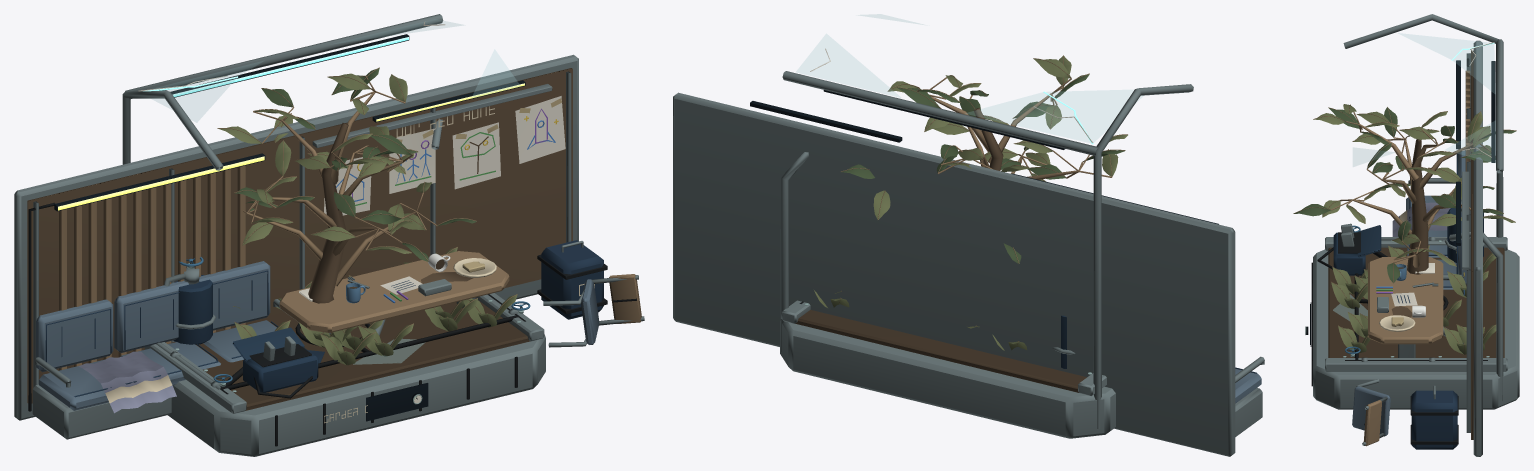
File: habitation.glb
3 renders of one model, left to right at view 1: azimuth 30°, elevation 25°; view 2: azimuth 150°, elevation 25°; view 3: azimuth 270°, elevation 25°, orthographic. The views are drawn at different scales.
Parts seen in each view (by area): view 1: residential-story-wall--p11-tint, residential-common-nook--p11-tint, atrium-conservatory--p11-tint, atrium-conservatory--p11-steel, residential-story-wall--p11-steel, residential-common-nook--p11-steel, atrium-conservatory--e9-glass, atrium-conservatory--p11-rubber, atrium-conservatory--e9-dark, atrium-conservatory--p11-tint-metal, residential-story-wall--e9-dark, residential-story-wall--e9-amber (+3 smaller); view 2: residential-story-wall--p11-steel, atrium-conservatory--p11-steel, atrium-conservatory--p11-tint, atrium-conservatory--e9-glass, residential-story-wall--e9-dark, residential-common-nook--p11-steel; view 3: atrium-conservatory--p11-tint, atrium-conservatory--p11-steel, residential-common-nook--p11-tint, residential-story-wall--p11-steel, atrium-conservatory--e9-glass, residential-story-wall--p11-tint, atrium-conservatory--p11-rubber, residential-common-nook--p11-steel, residential-story-wall--e9-dark, atrium-conservatory--e9-dark, residential-common-nook--p11-rubber, atrium-conservatory--p11-tint-metal.
Part boxes in pixels (<box>): residential-story-wall--p11-tint: <box>27,68,572,403</box>; residential-common-nook--p11-tint: <box>36,240,641,413</box>; atrium-conservatory--p11-tint: <box>138,22,530,423</box>; atrium-conservatory--p11-steel: <box>122,14,545,456</box>; residential-story-wall--p11-steel: <box>14,54,578,420</box>; residential-common-nook--p11-steel: <box>32,241,644,439</box>; atrium-conservatory--e9-glass: <box>152,19,519,364</box>; atrium-conservatory--p11-rubber: <box>220,294,525,446</box>; atrium-conservatory--e9-dark: <box>170,34,428,421</box>; atrium-conservatory--p11-tint-metal: <box>173,257,530,383</box>; residential-story-wall--e9-dark: <box>54,80,525,211</box>; residential-story-wall--e9-amber: <box>58,83,524,210</box>; residential-story-wall--p11-steel: <box>673,92,1235,456</box>; atrium-conservatory--p11-steel: <box>780,71,1193,438</box>; atrium-conservatory--p11-tint: <box>795,48,1127,392</box>; atrium-conservatory--e9-glass: <box>796,14,1142,142</box>; residential-story-wall--e9-dark: <box>750,101,1218,224</box>; residential-common-nook--p11-steel: <box>1235,356,1264,436</box>; atrium-conservatory--p11-tint: <box>1293,42,1516,357</box>; atrium-conservatory--p11-steel: <box>1313,14,1519,409</box>; residential-common-nook--p11-tint: <box>1352,150,1466,449</box>; residential-story-wall--p11-steel: <box>1462,40,1482,456</box>; atrium-conservatory--e9-glass: <box>1333,33,1495,320</box>; residential-story-wall--p11-tint: <box>1463,50,1473,439</box>; atrium-conservatory--p11-rubber: <box>1311,232,1487,386</box>; residential-common-nook--p11-steel: <box>1356,178,1464,445</box>; residential-story-wall--e9-dark: <box>1456,60,1460,245</box>; atrium-conservatory--e9-dark: <box>1306,61,1495,346</box>; residential-common-nook--p11-rubber: <box>1364,395,1458,444</box>; atrium-conservatory--p11-tint-metal: <box>1345,208,1483,354</box>.
Size of the model in its own units: 6.8 by 3.69 by 2.85.
